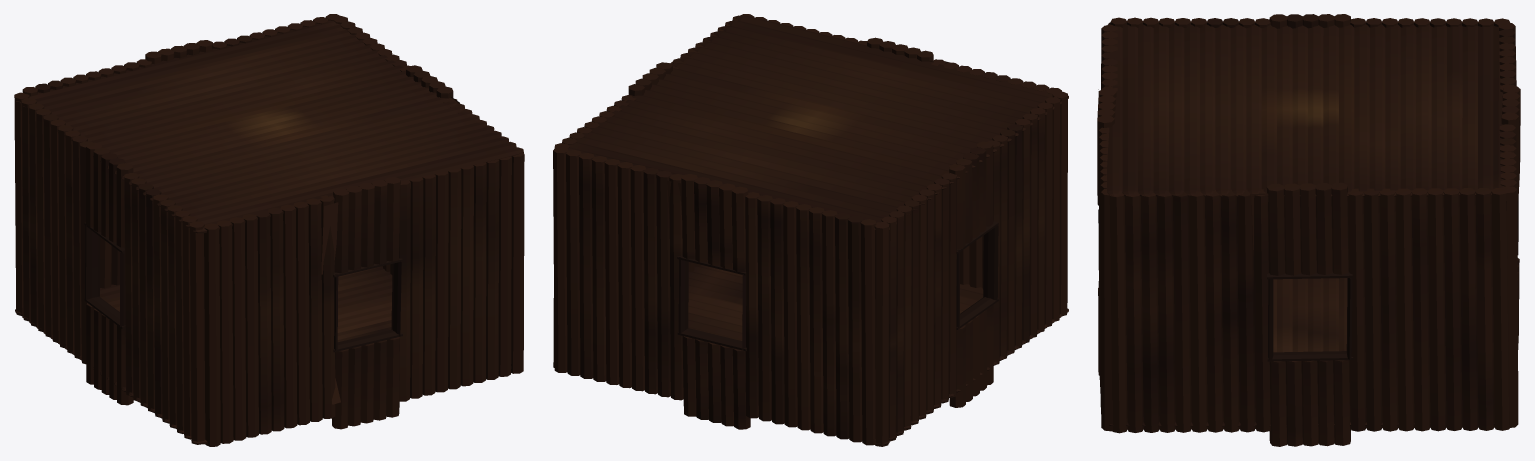
Rendered from House4.fbx.
3 renders of one model, left to right at view 1: azimuth 30°, elevation 25°; view 2: azimuth 150°, elevation 25°; view 3: azimuth 270°, elevation 25°, orthographic. The views are drawn at different scales.
Visible parts, largest first — view 1: Walla, Ceiling, Ground, Frame3, Frame, Frame2; view 2: Walla, Ceiling, Ground, Frame3, Frame2; view 3: Walla, Ceiling, Ground, Frame1.
Boxes of the visible parts, box(x1,y1,x2,y2) form: Walla: box(14, 14, 524, 446); Ceiling: box(15, 20, 522, 233); Ground: box(15, 266, 511, 444); Frame3: box(84, 97, 459, 329); Frame: box(333, 258, 402, 352); Frame2: box(321, 202, 338, 274); Walla: box(553, 14, 1067, 446); Ceiling: box(568, 15, 1068, 229); Ground: box(688, 265, 1068, 444); Frame3: box(670, 61, 998, 329); Frame2: box(677, 59, 949, 351); Walla: box(1097, 14, 1520, 446); Ceiling: box(1107, 22, 1504, 196); Ground: box(1109, 278, 1494, 426); Frame1: box(1267, 271, 1353, 361).
Bounding box in the file's own units: 471 × 316 × 473.
